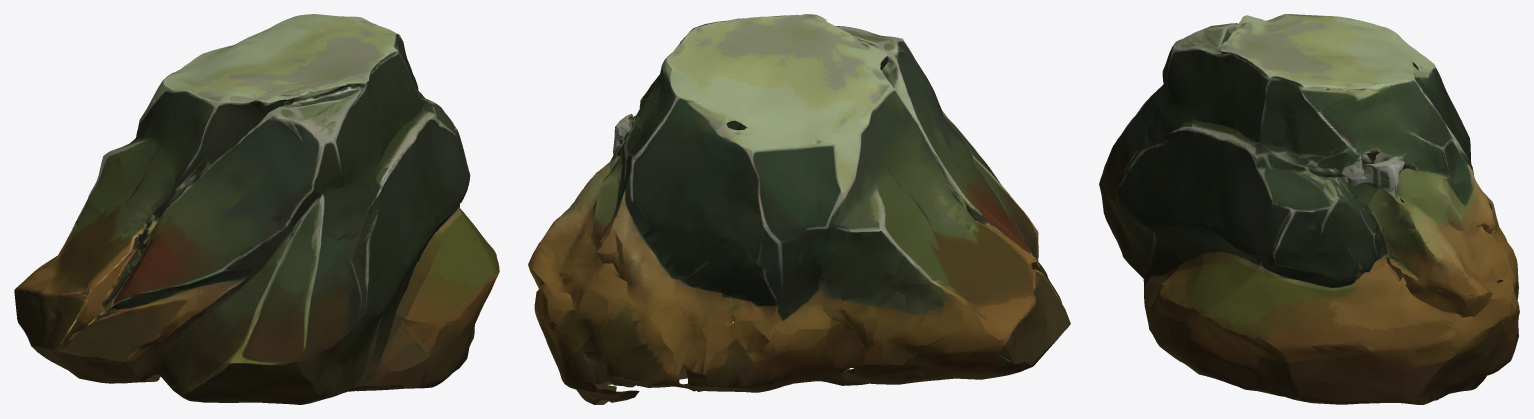
Rendered from item_flint.glb.
3 views of the same model, side by side, from view 1: azimuth 30°, elevation 25°; view 2: azimuth 150°, elevation 25°; view 3: azimuth 270°, elevation 25° (orthographic). The views are drawn at different scales.
Visible parts, largest first — view 1: item_flint; view 2: item_flint; view 3: item_flint.
Boxes of the visible parts, x1,y1,x2,y2 form: item_flint: (14,14,499,404); item_flint: (528,14,1070,404); item_flint: (1099,14,1519,404).
Bounding box in the file's own units: 0.12 × 0.0796 × 0.1011.
1 material, 1 textured.
